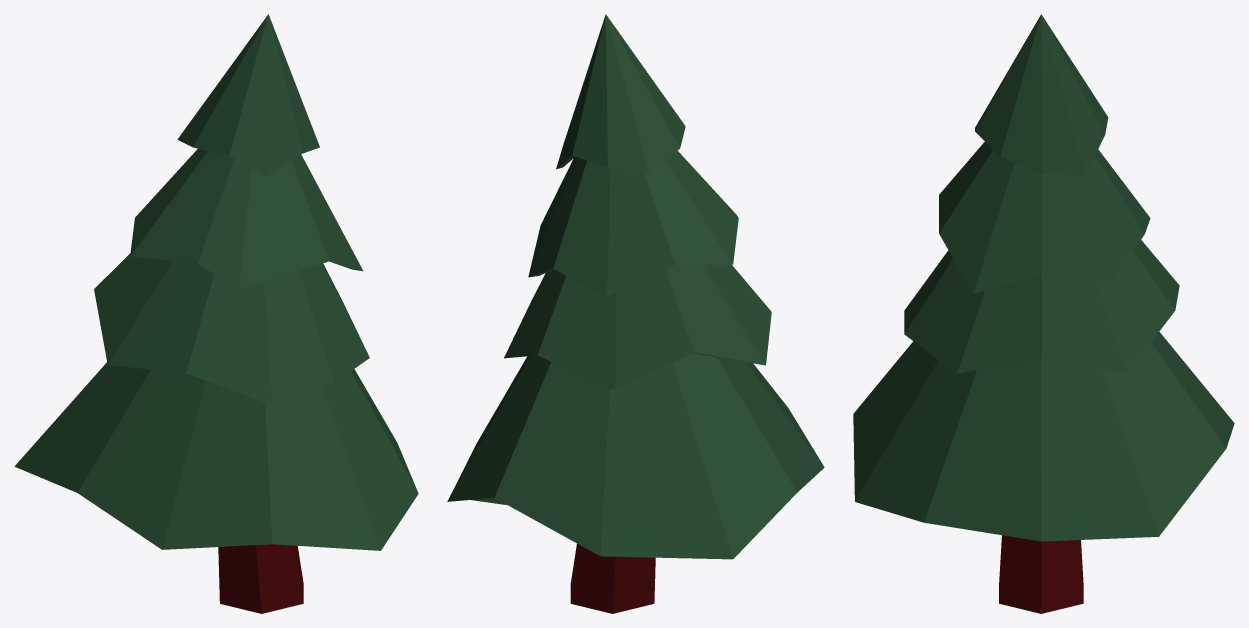
Rendered from tree.fbx.
The picture shows the model from 3 angles, left to right: view 1: azimuth 30°, elevation 25°; view 2: azimuth 150°, elevation 25°; view 3: azimuth 270°, elevation 25°; orthographic projection.
Visible parts, largest first — view 1: 1_leaves, 1_trunk; view 2: 1_leaves, 1_trunk; view 3: 1_leaves, 1_trunk.
Boxes of the visible parts, x1=… form: 1_leaves: x1=14, y1=14, x2=418, y2=550; 1_trunk: x1=218, y1=544, x2=303, y2=613; 1_leaves: x1=447, y1=14, x2=824, y2=559; 1_trunk: x1=570, y1=543, x2=655, y2=613; 1_leaves: x1=853, y1=14, x2=1234, y2=541; 1_trunk: x1=999, y1=535, x2=1083, y2=613.
Bounding box in the file's own units: 213 × 367 × 218.
